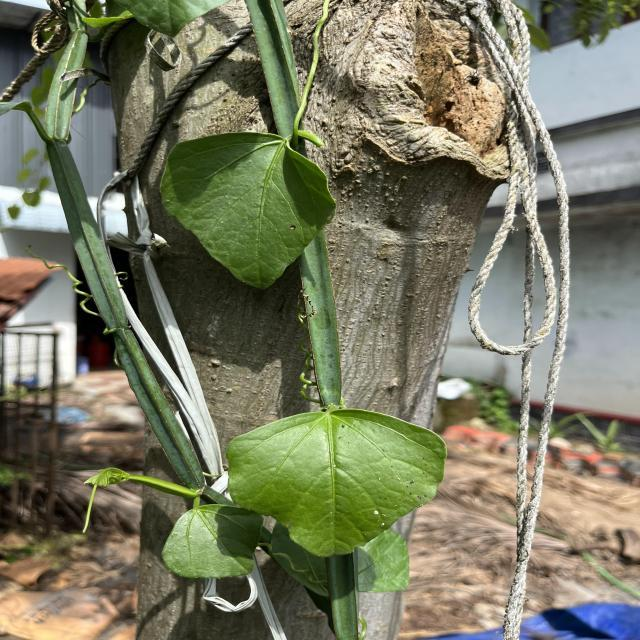Cissus quadrangularis: (222, 406, 450, 561), (155, 129, 340, 293), (157, 502, 266, 581)
